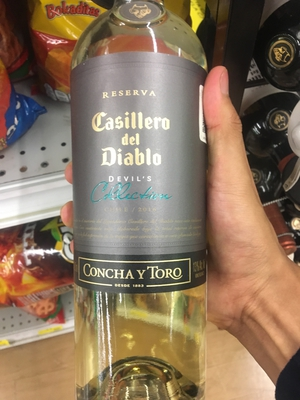casillero del diablo devils collection verde: (63, 12, 229, 380)
